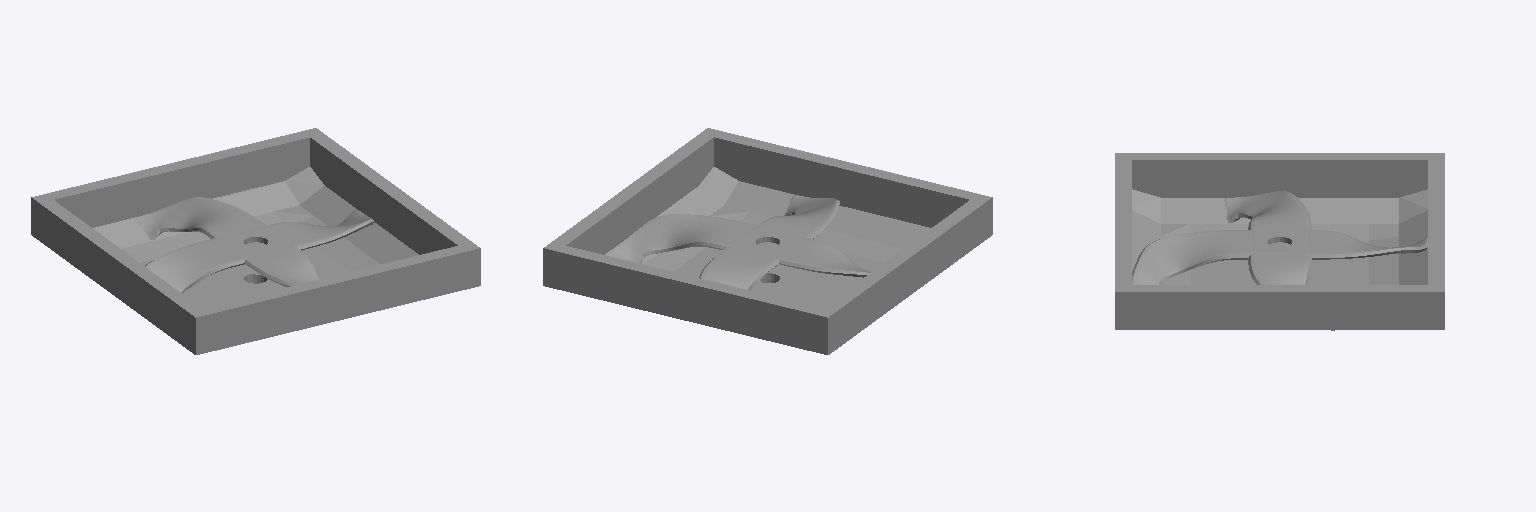
Rendered from wrap2.obj.
3 renders of one model, left to right at view 1: azimuth 30°, elevation 25°; view 2: azimuth 150°, elevation 25°; view 3: azimuth 270°, elevation 25°, orthographic.
Visible parts, largest first — view 1: polySurface44; view 2: polySurface44; view 3: polySurface44.
Part boxes in pixels (x1,y1,x2,y2): polySurface44: (31,128,480,354); polySurface44: (543,128,992,354); polySurface44: (1115,153,1444,330).
Size of the model in its own units: 26.42 by 5.89 by 26.42.